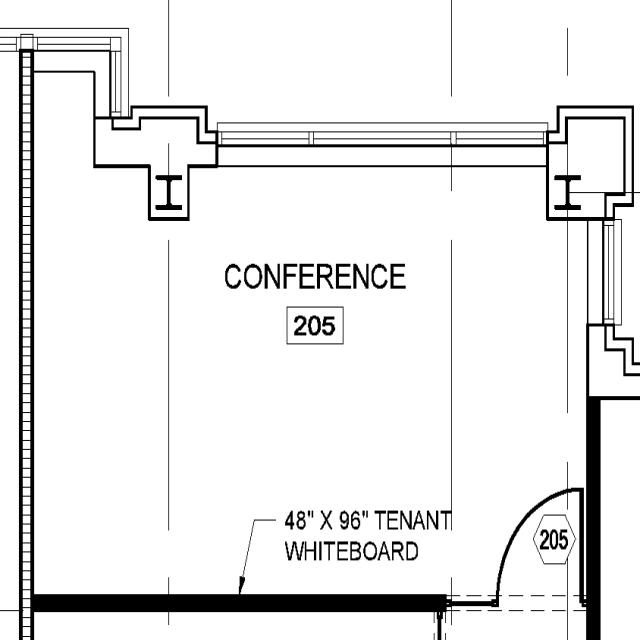Doors: (493, 484, 588, 613)
